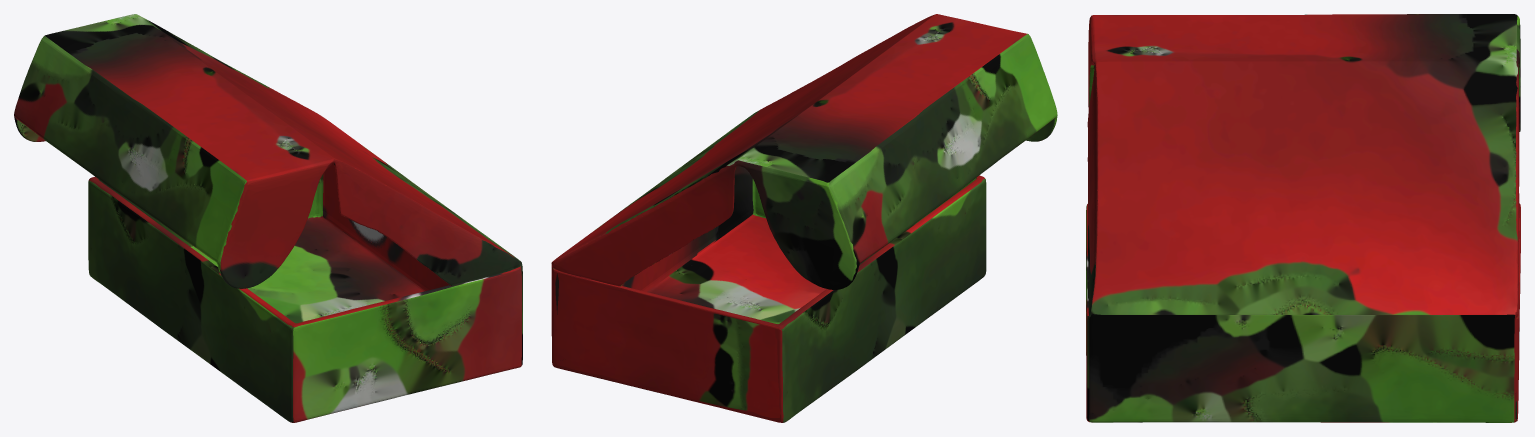
Rendered from sample.obj.
3 views of the same model, side by side, from view 1: azimuth 30°, elevation 25°; view 2: azimuth 150°, elevation 25°; view 3: azimuth 270°, elevation 25° (orthographic). The views are drawn at different scales.
Bounding box in the file's own units: 0.3818 × 0.3 × 0.4404.
